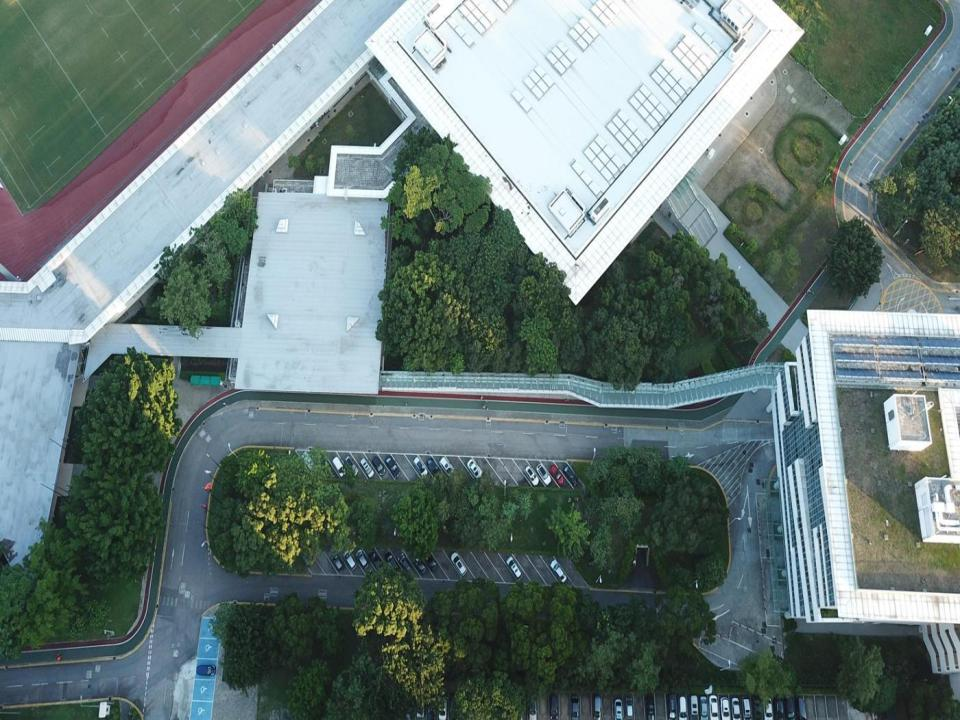car: (550, 559, 567, 584), (450, 552, 467, 576), (506, 557, 522, 581), (384, 455, 400, 479), (564, 465, 580, 487), (425, 455, 441, 477), (524, 465, 539, 487), (412, 554, 426, 576), (467, 459, 481, 480), (413, 456, 427, 477), (385, 552, 399, 572), (398, 554, 412, 574), (440, 457, 454, 477), (550, 465, 564, 484), (570, 694, 581, 718), (343, 549, 356, 569), (368, 551, 381, 571), (355, 549, 368, 568), (537, 464, 550, 483), (752, 696, 763, 718), (709, 695, 719, 719), (763, 696, 773, 719), (372, 456, 384, 474), (678, 694, 687, 718), (721, 696, 730, 719), (425, 552, 436, 570), (332, 554, 344, 570), (626, 697, 634, 719), (528, 700, 537, 719), (732, 698, 740, 719), (700, 696, 708, 717), (550, 695, 557, 719), (615, 699, 622, 719)
van: (344, 455, 359, 477), (303, 452, 316, 474), (360, 458, 374, 477), (333, 458, 346, 478), (317, 454, 331, 472), (741, 696, 752, 718), (668, 694, 677, 718), (645, 693, 654, 717), (196, 665, 215, 676), (594, 695, 602, 719), (787, 697, 796, 718), (775, 697, 784, 718), (690, 696, 699, 717), (798, 698, 807, 717)
